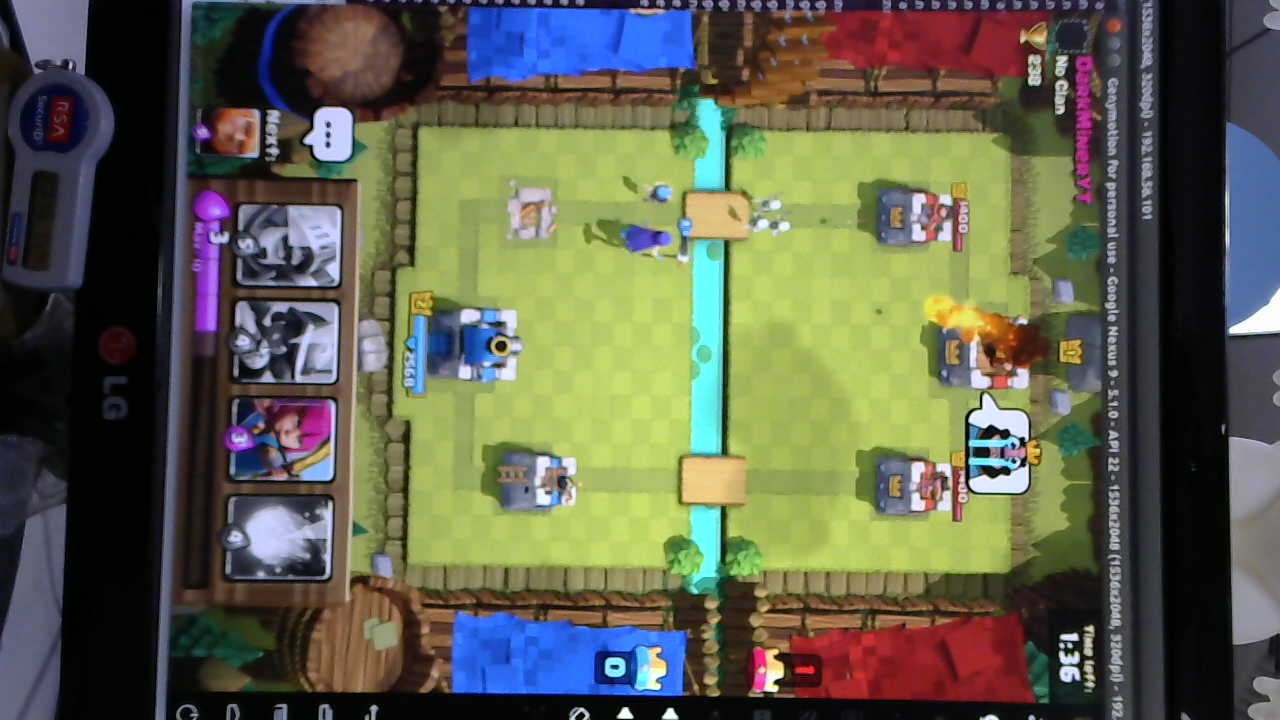arena: (494, 447, 579, 514)
bomb: (641, 179, 674, 207)
darena: (501, 178, 557, 244)
earena: (877, 455, 955, 519), (874, 191, 958, 246)
eking: (941, 317, 1028, 391)
king: (429, 307, 526, 388)
skeleton: (741, 192, 798, 239)
witch: (610, 218, 678, 260)
